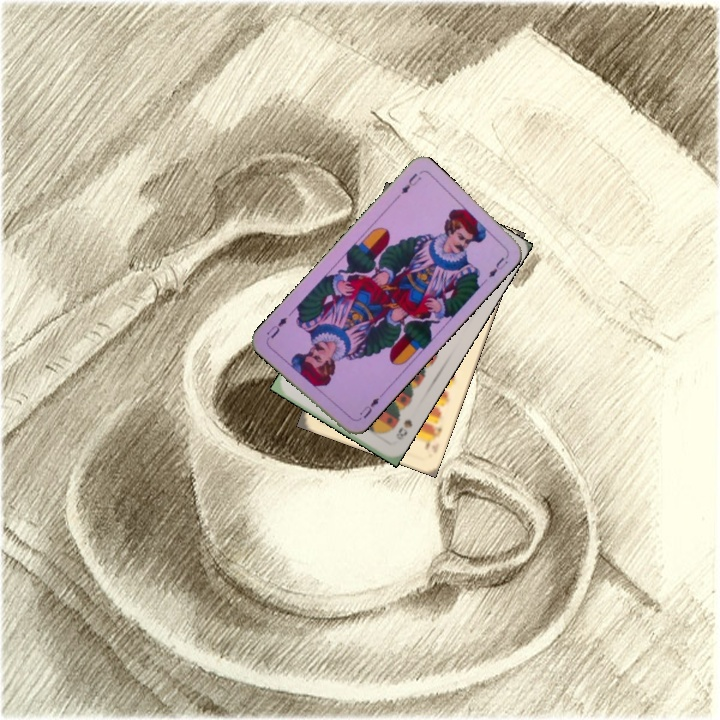E10: (421, 421, 444, 452)
EU: (353, 394, 382, 423), (397, 169, 424, 196)
S8: (392, 415, 415, 443)
